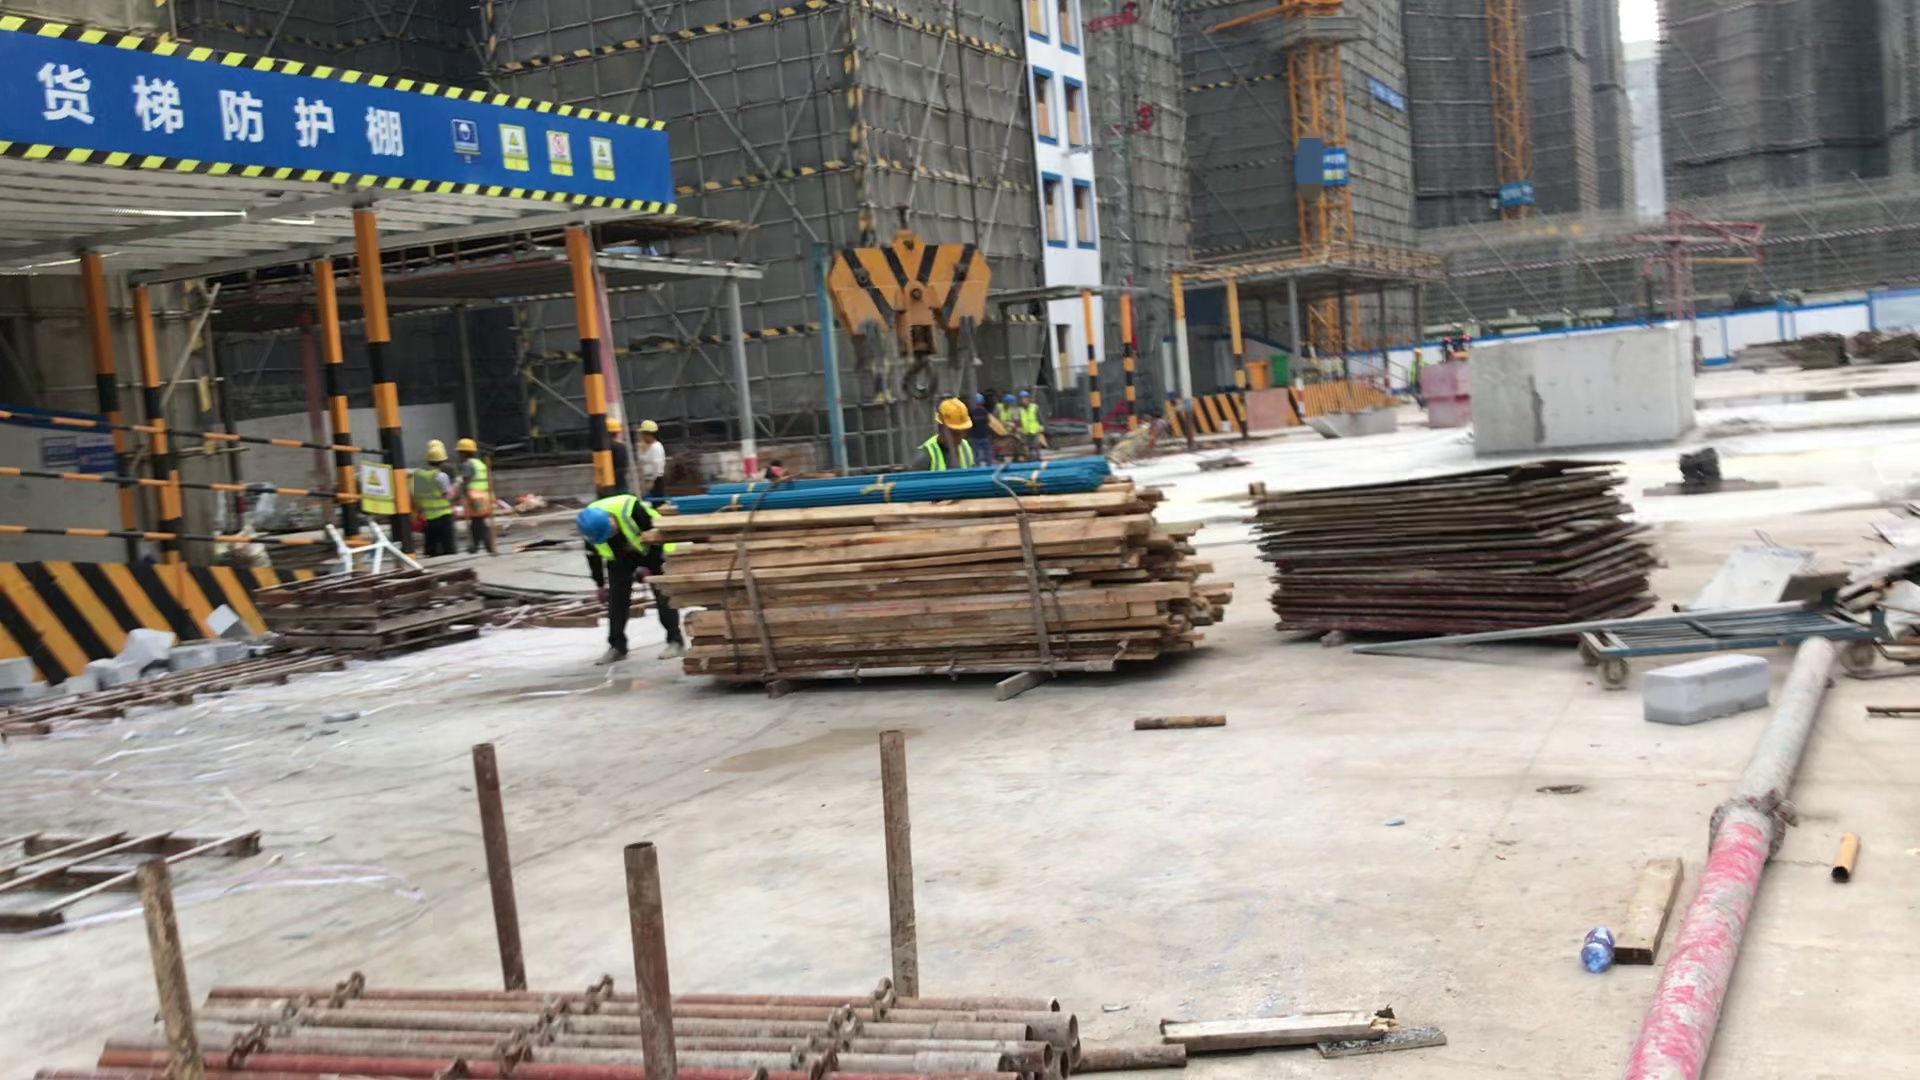helmet: (935, 398, 973, 432), (578, 508, 611, 547), (455, 438, 478, 453), (427, 446, 447, 462), (637, 421, 658, 432), (605, 417, 620, 433), (1003, 395, 1014, 404), (1017, 390, 1028, 397)
person: (578, 495, 683, 672), (911, 399, 975, 477), (452, 438, 493, 556), (417, 446, 452, 558), (1013, 389, 1045, 466), (638, 422, 666, 496), (606, 418, 632, 495), (991, 394, 1017, 434)
vest: (587, 498, 655, 557), (923, 442, 978, 472), (415, 472, 448, 521), (468, 457, 489, 500), (1020, 405, 1038, 440)
